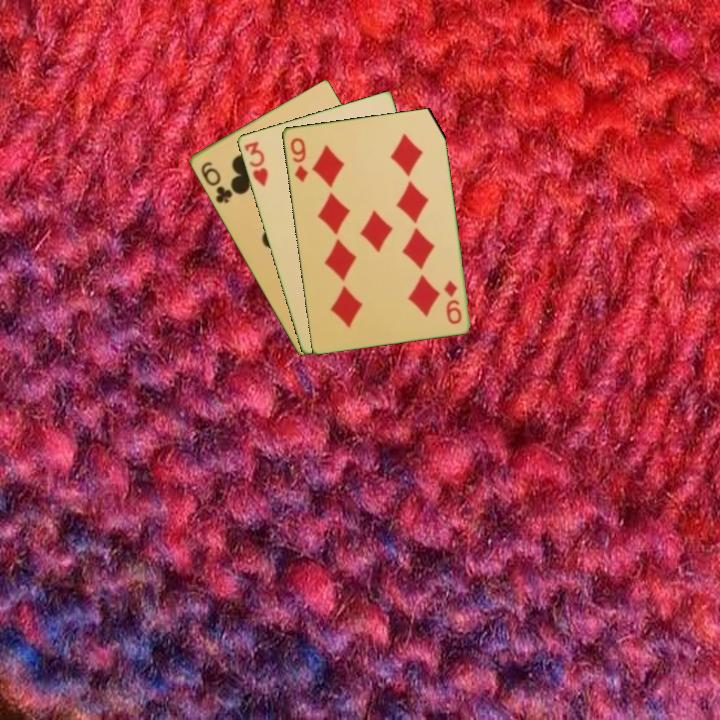3h: (240, 138, 271, 190)
6c: (197, 158, 235, 206)
9d: (440, 276, 464, 327), (287, 134, 310, 184)
